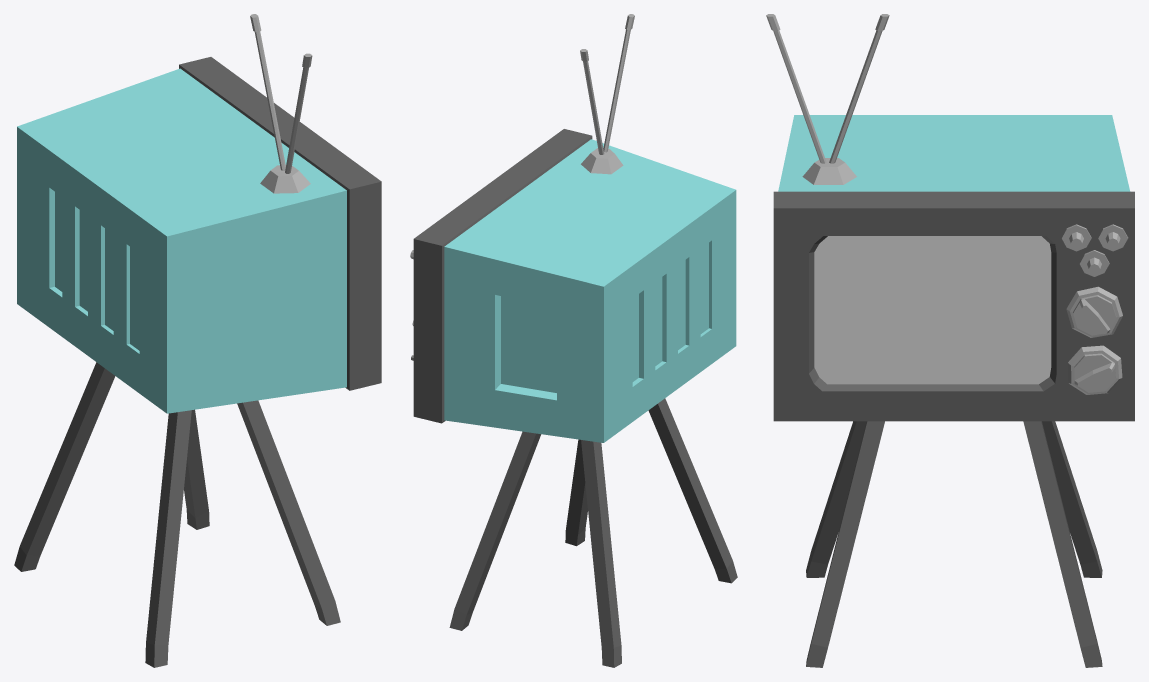
File: monitor.fbx
3 views of the same model, side by side, from view 1: azimuth 30°, elevation 25°; view 2: azimuth 150°, elevation 25°; view 3: azimuth 270°, elevation 25° (orthographic). The views are drawn at different scales.
Visible parts, largest first — view 1: Cube; view 2: Cube; view 3: Cube.
Part boxes in pixels (box(x1,y1,x2,y2)): Cube: box(14, 14, 381, 667); Cube: box(410, 14, 737, 667); Cube: box(766, 14, 1134, 667).
Size of the model in its own units: 165 by 410 by 219.
